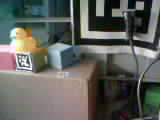duck: (4, 21, 39, 55)
